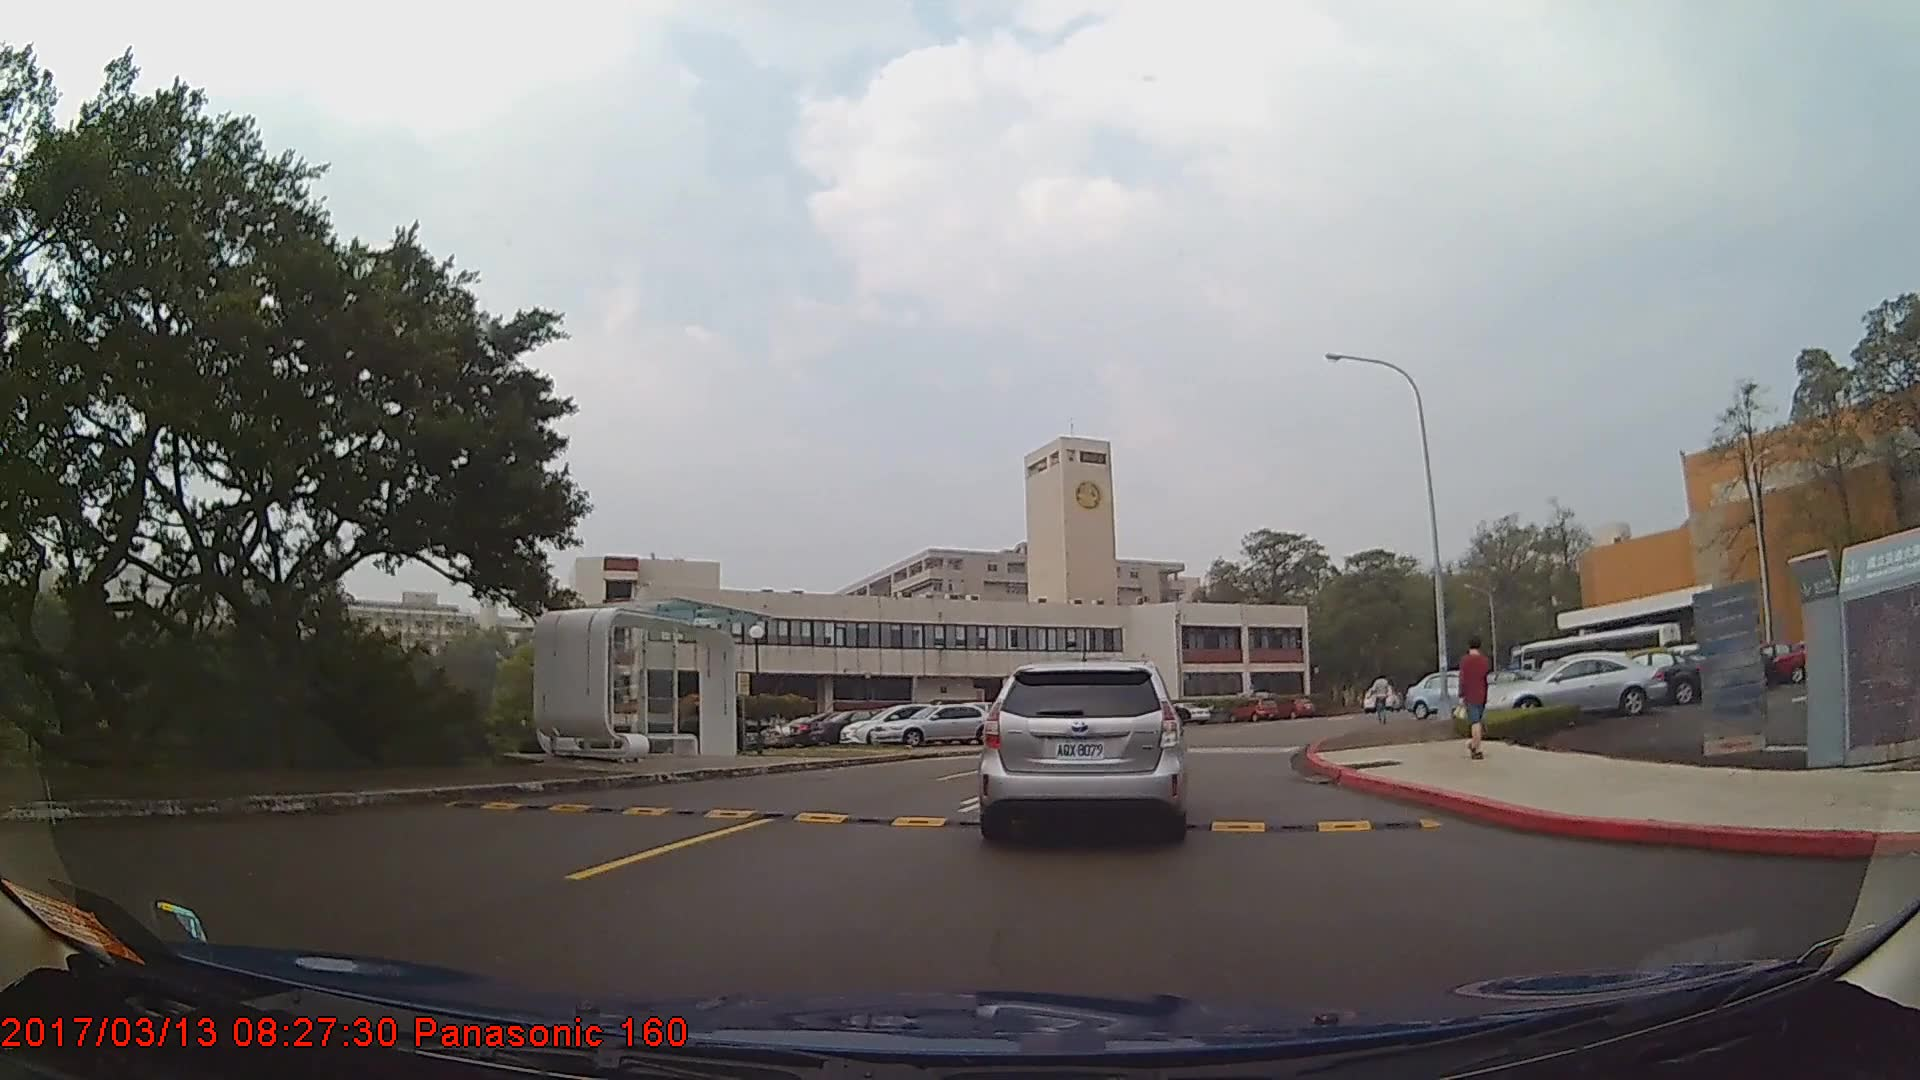pedestrian: (1459, 634, 1497, 762), (1370, 670, 1397, 726)
vehicle: (980, 655, 1183, 842), (1479, 652, 1669, 718), (869, 701, 994, 744), (1404, 671, 1494, 721)
